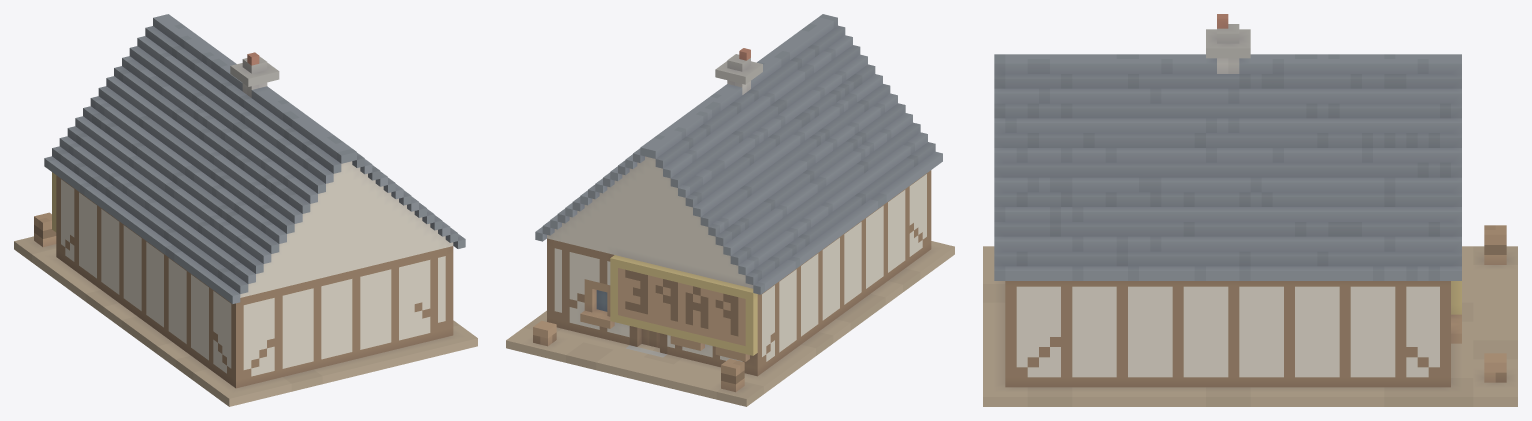
The model's file is paper_mill.glb.
3 views of the same model, side by side, from view 1: azimuth 30°, elevation 25°; view 2: azimuth 150°, elevation 25°; view 3: azimuth 270°, elevation 25° (orthographic). The views are drawn at different scales.
Parts seen in each view (by area): view 1: paper_mill; view 2: paper_mill; view 3: paper_mill.
Part boxes in pixels (x1=…): paper_mill: x1=14, y1=14, x2=477, y2=406; paper_mill: x1=506, y1=14, x2=954, y2=406; paper_mill: x1=983, y1=14, x2=1517, y2=406.
Size of the model in its own units: 4 by 3.88 by 6.
